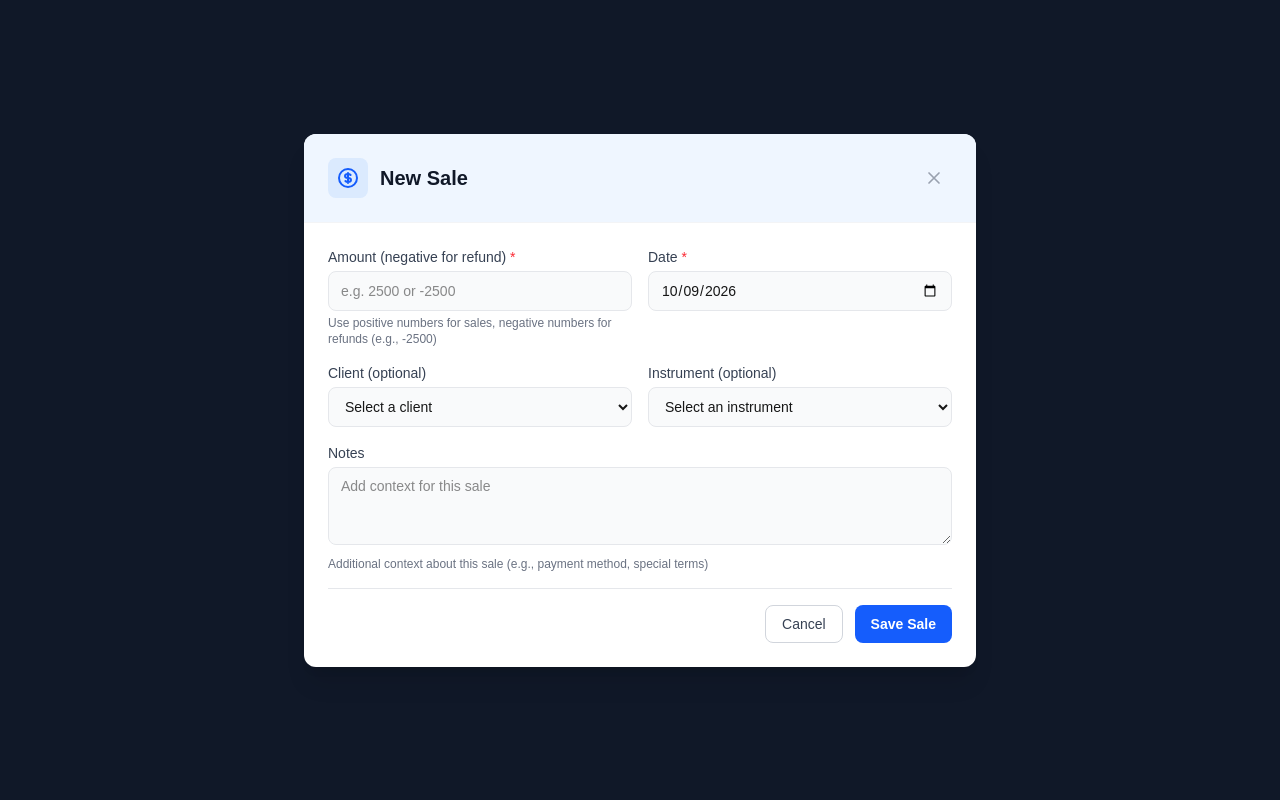
it: SaleForm › should reject a sale price with more than two decimal places instead of rounding it
In the number field labelled "Amount (negative for refund) *": (480, 290) [328,270,632,310], type "19.999"
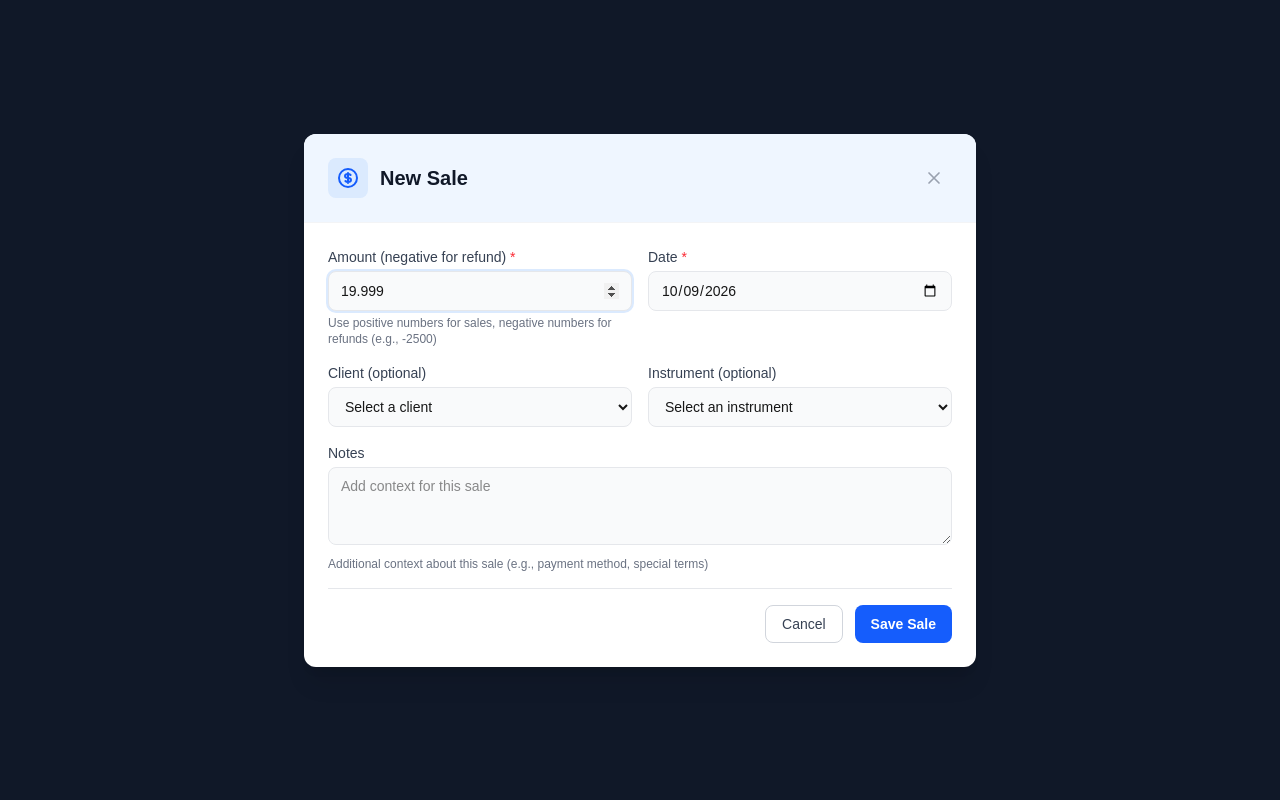
In the date field labelled "Date *": (800, 290) [648,270,952,310], type "2024-01-15"
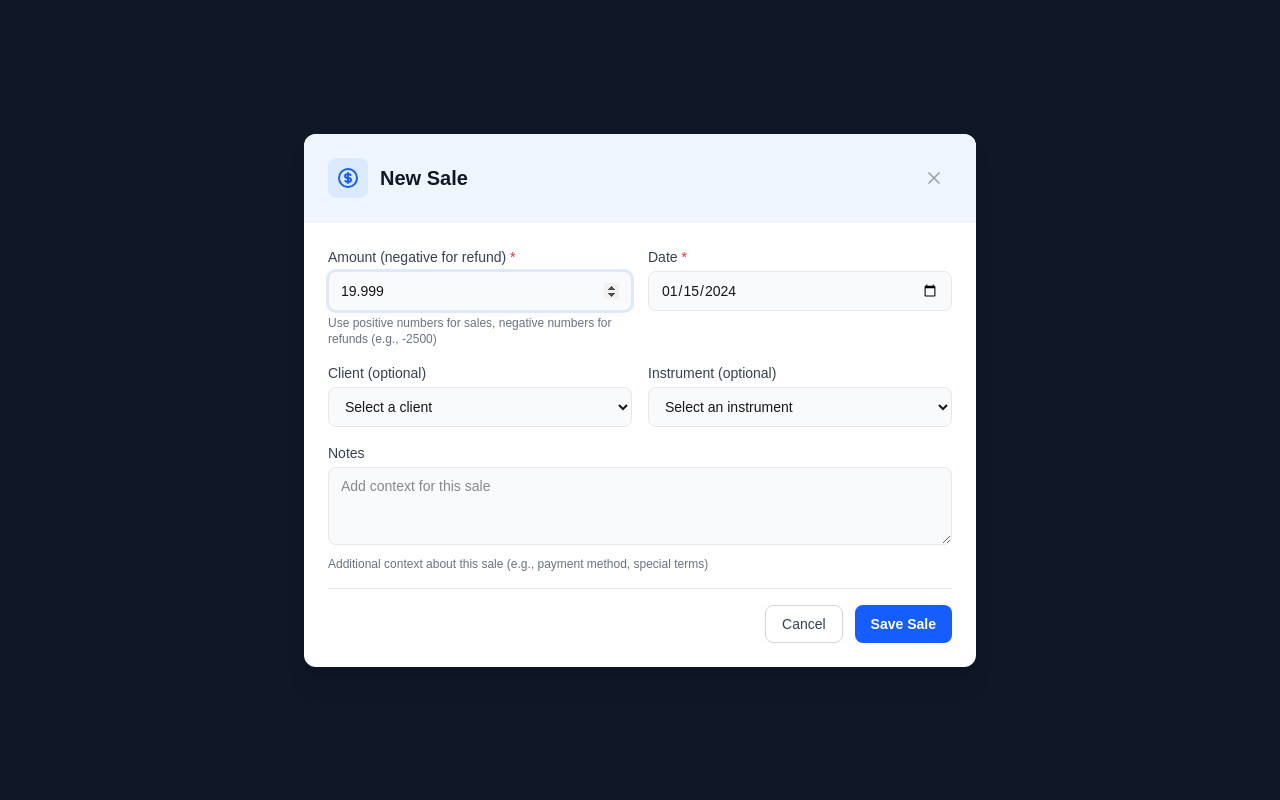
Click the button "Save Sale": (903, 624) [855,604,952,642]
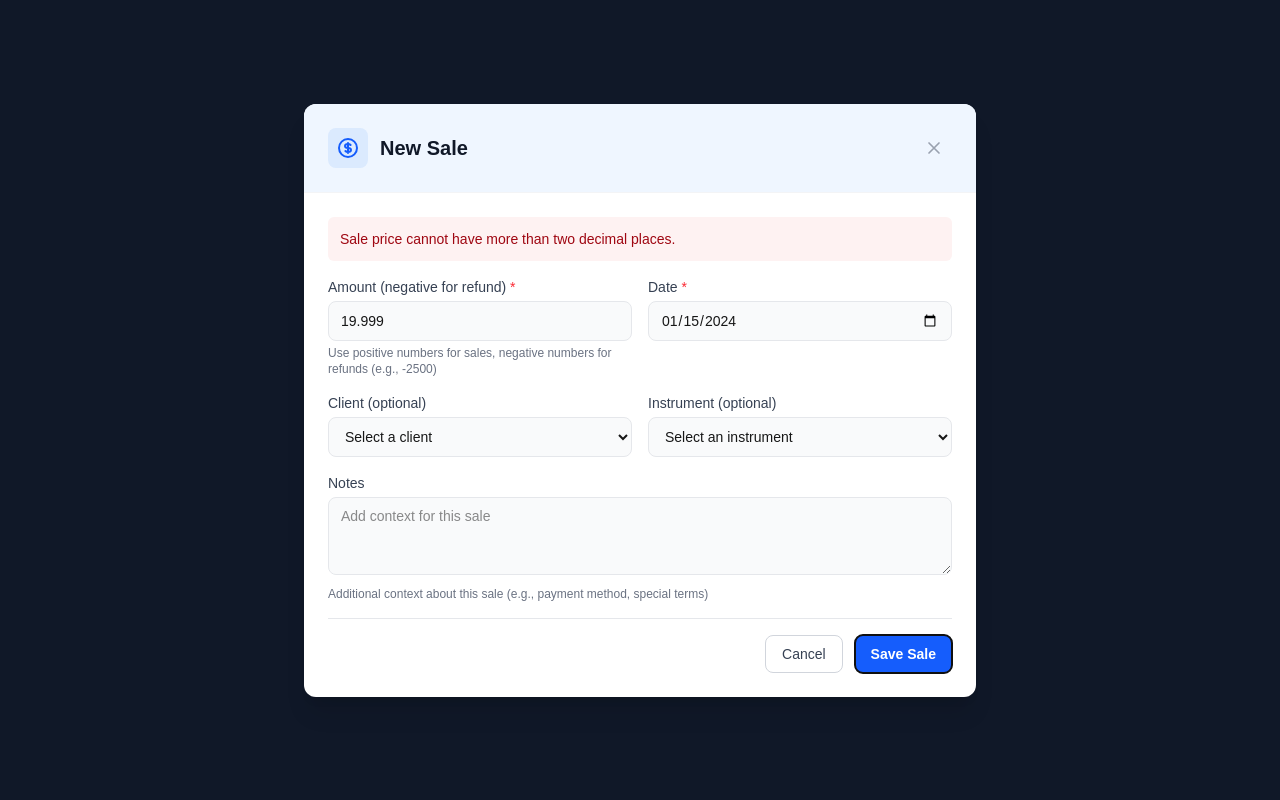
Now the text "Sale price cannot have more than two decimal places." is shown, box [340,230,675,246]
